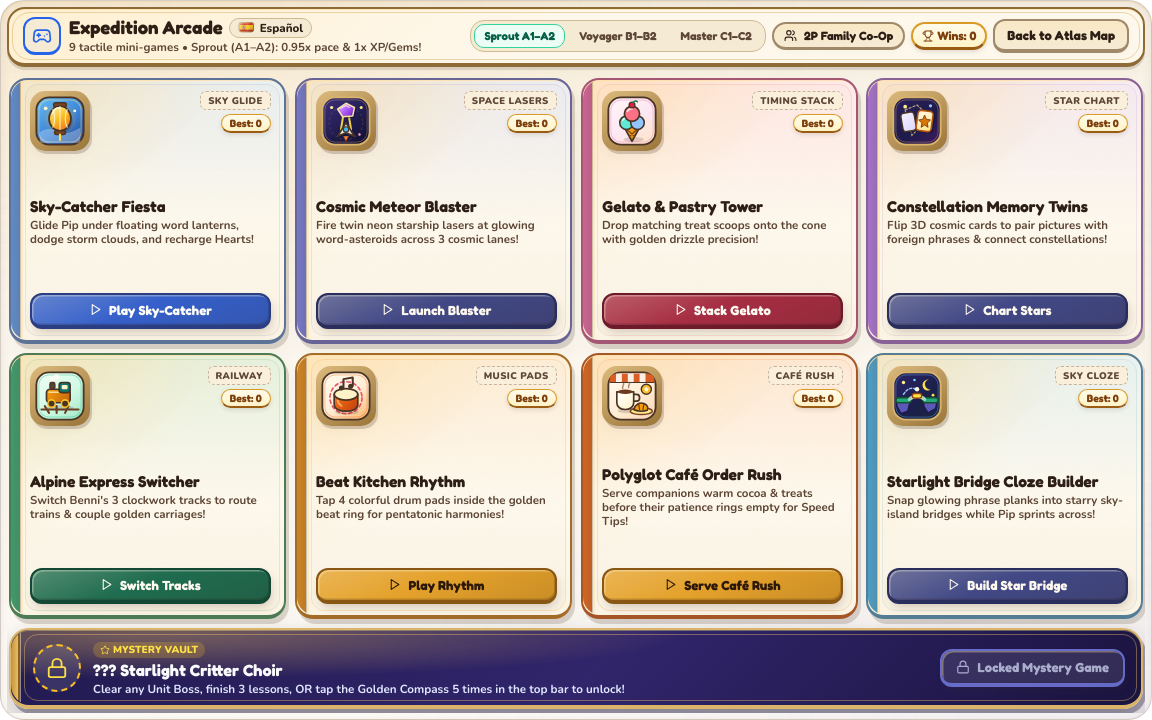
Test: Sprint 2 Bug Board Targeted Regression Gates (BUG-S2-001..BUG-S2-011) › [BUG-S2-002] aborts ghost coopMatch if a partner profile is deleted mid-Handoff or recordCoopArcadeSession returns null
The image size is (1152, 720).
Later steps or results of the test are not shown.
Click the button with test id "arcade-coop-toggle" at (839, 36), box [772,22,905,50]
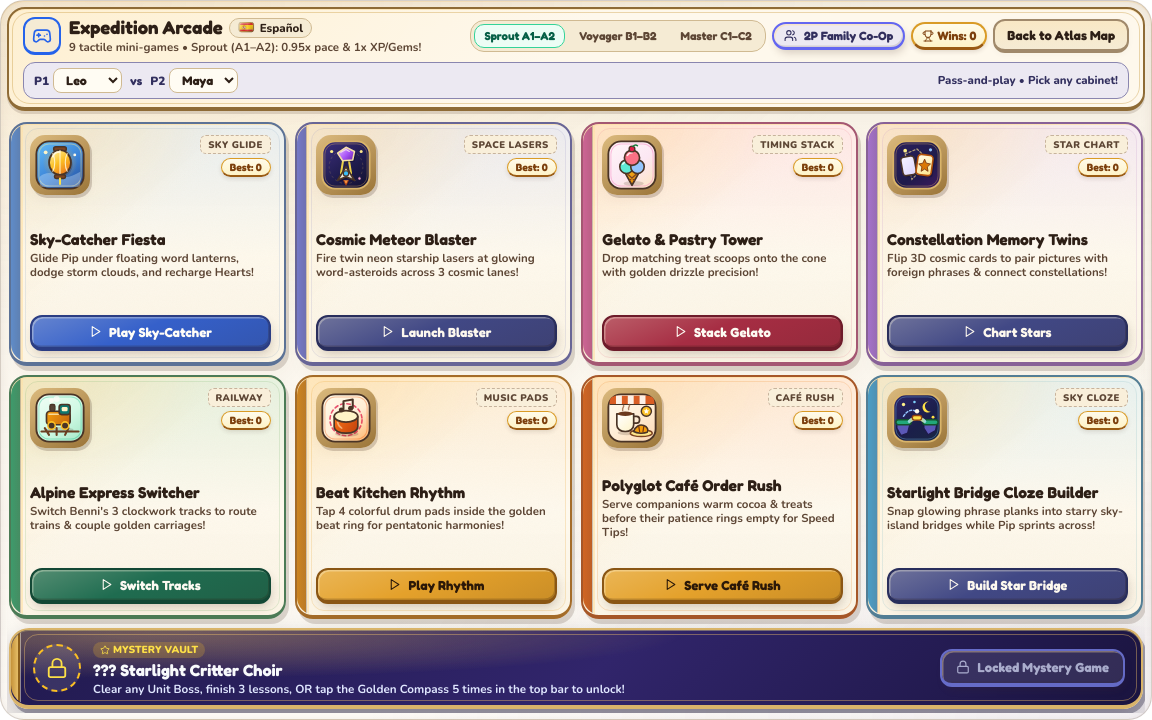
Select "Leo" in the dropdown with test id "coop-p1-select" at (88, 80), box [53,68,122,93]
Select "Maya" in the dropdown with test id "coop-p2-select" at (204, 80), box [169,68,238,93]
Click the button "Stack Gelato" at (722, 333), box [602,315,842,351]
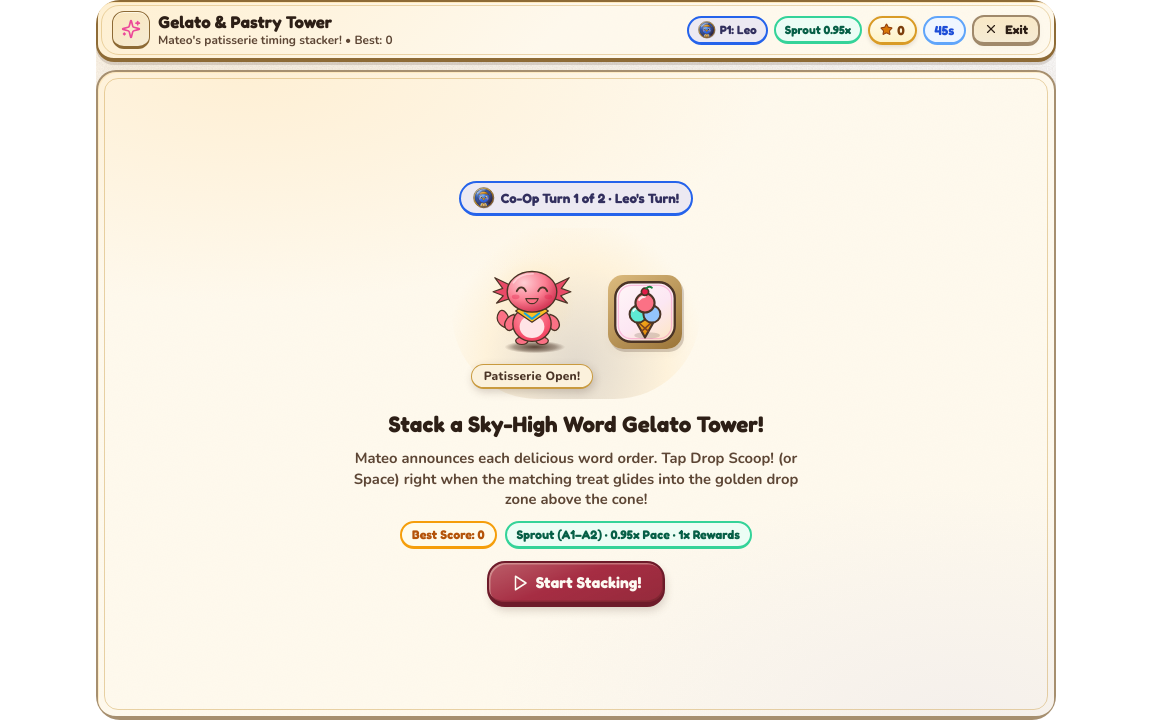
Click the button "Start Stacking!" at (576, 584), box [487,561,665,607]
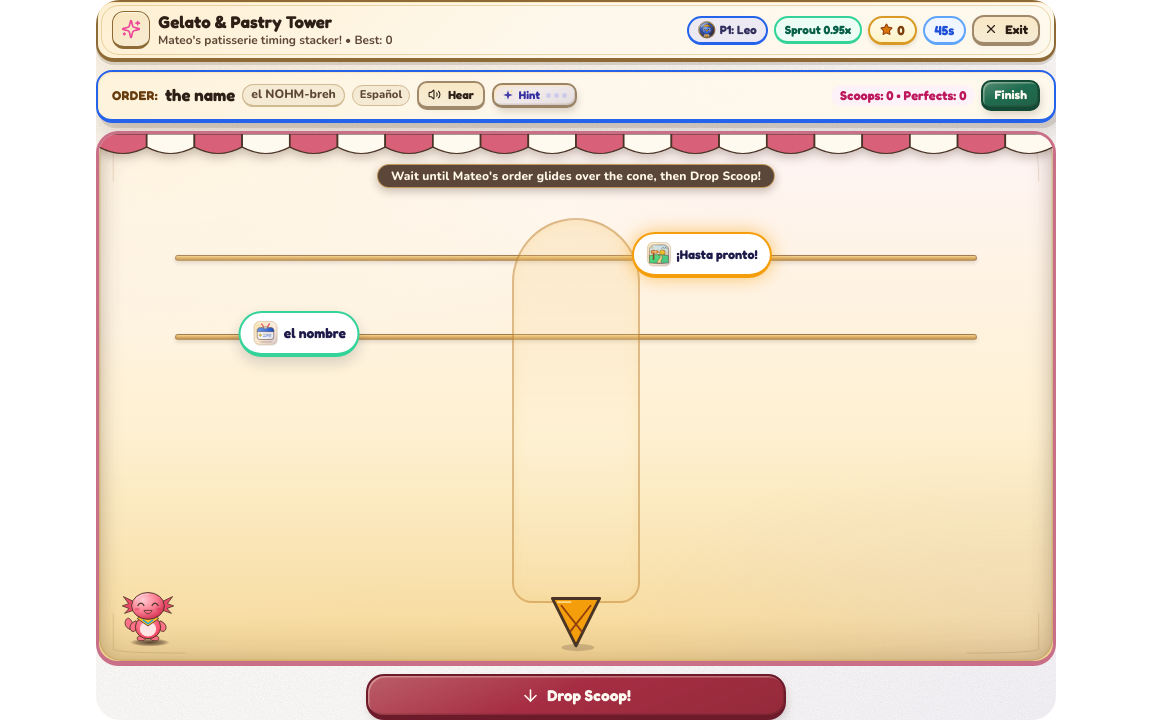
Click the button "Drop Scoop!" at (576, 697), box [366,674,786,719]
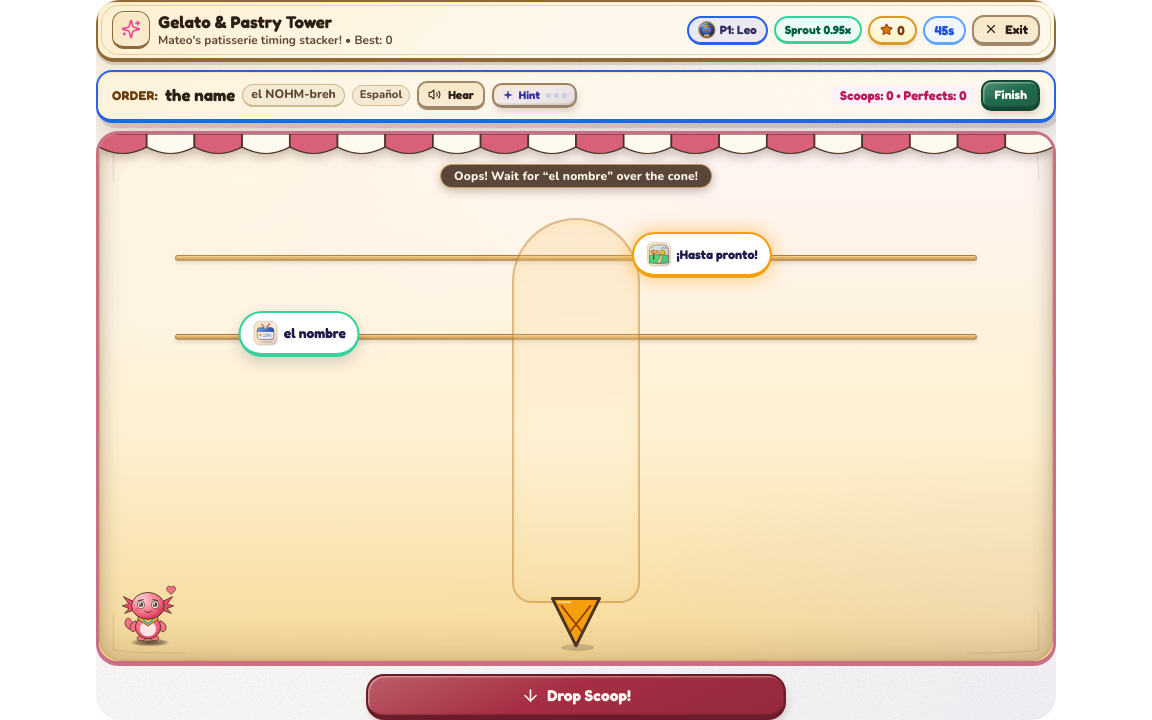
Click the button "Finish" at (1011, 96), box [981,80,1040,111]
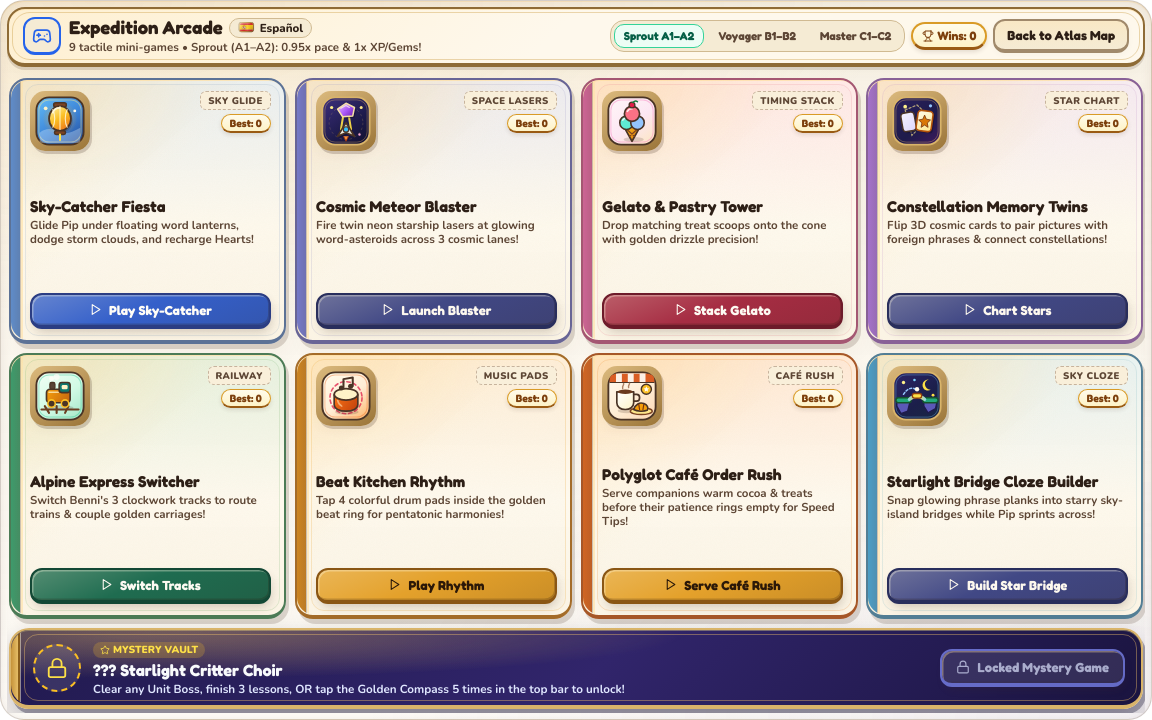
expect the button "Stack Gelato" is shown: met, box [602,293,842,329]
